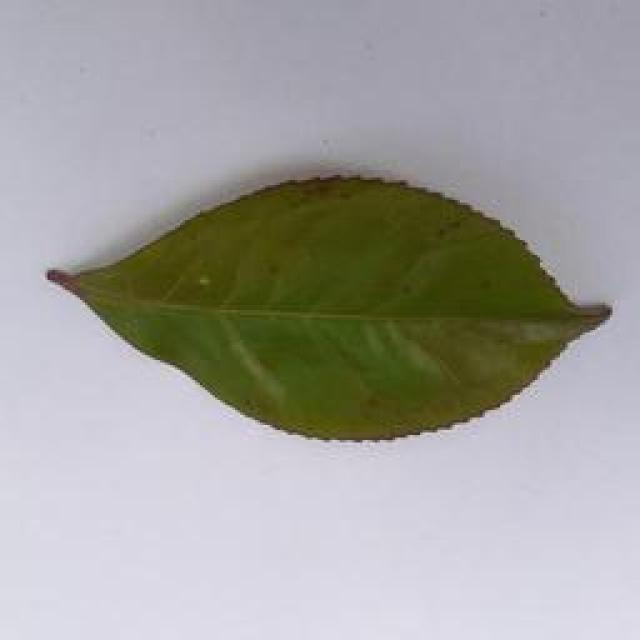Red Leaf Spot: (33, 167, 634, 451)
